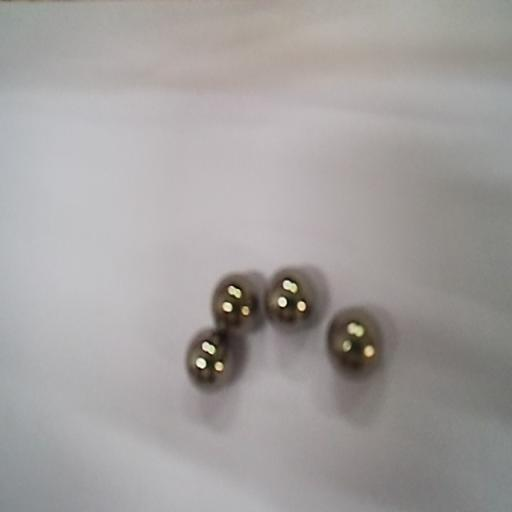steel-ball: (202, 250, 256, 332), (324, 300, 382, 374), (174, 330, 232, 398), (268, 260, 312, 334)
